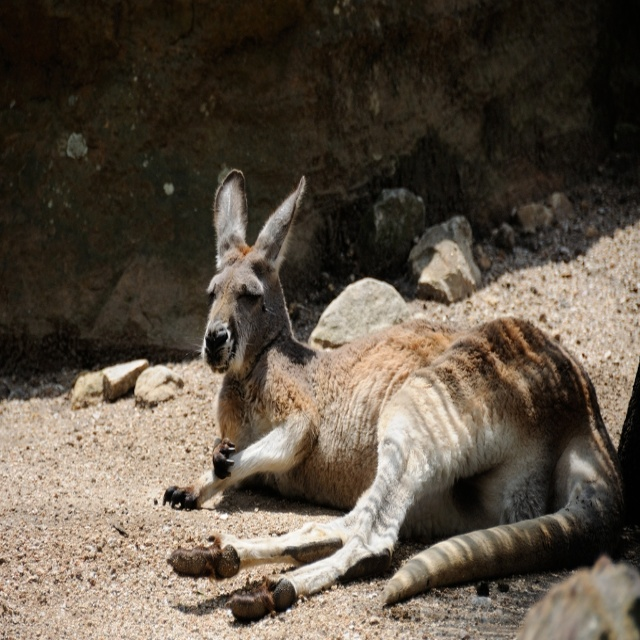Kangaroo: (162, 168, 622, 639)
